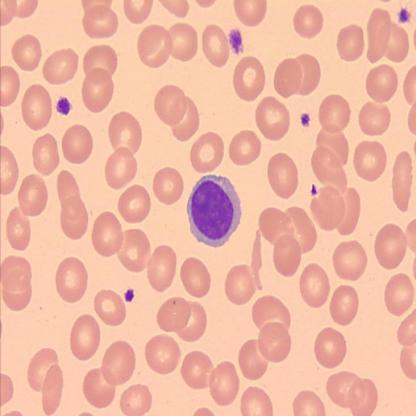Lymphocyte: (186, 174, 243, 249)
